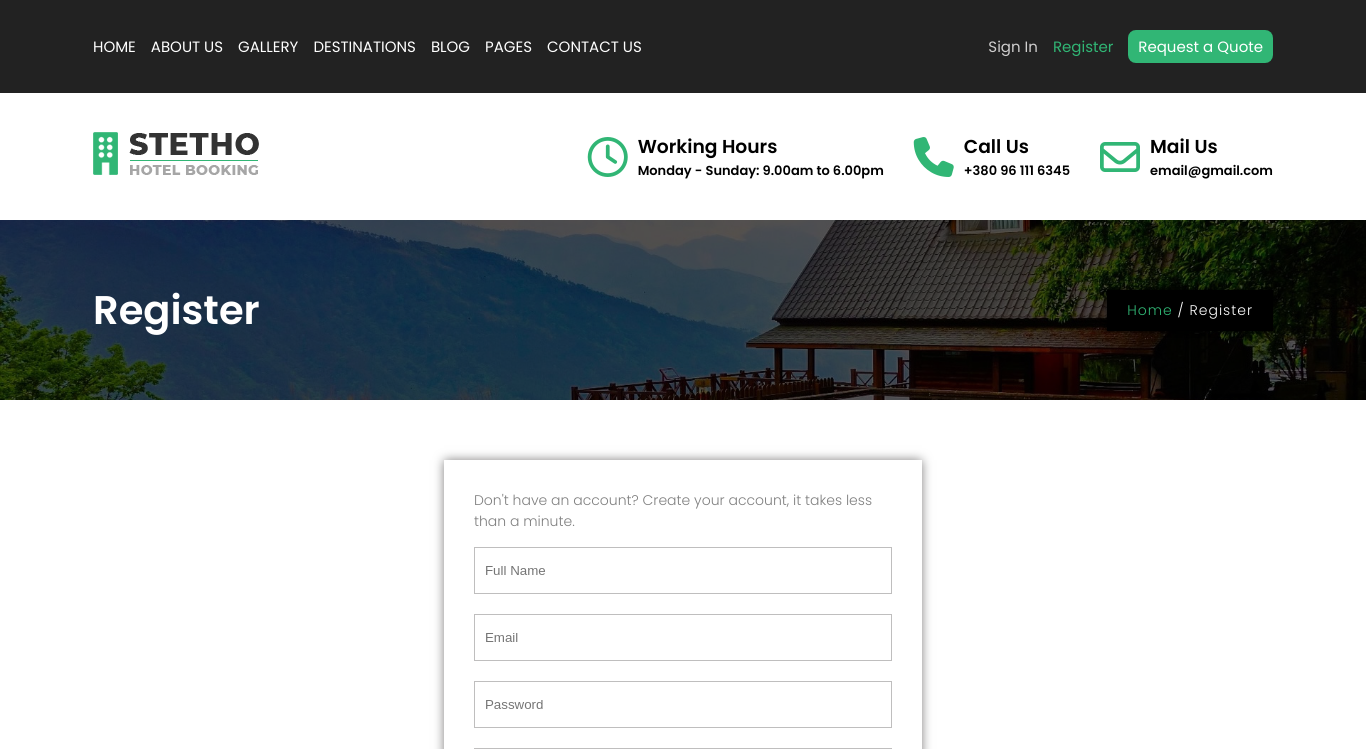
Test: Register › should input valid inputs and submit form
Type "Andrew" into the field with placeholder "Full Name" at (683, 570), box [474,547,892,594]
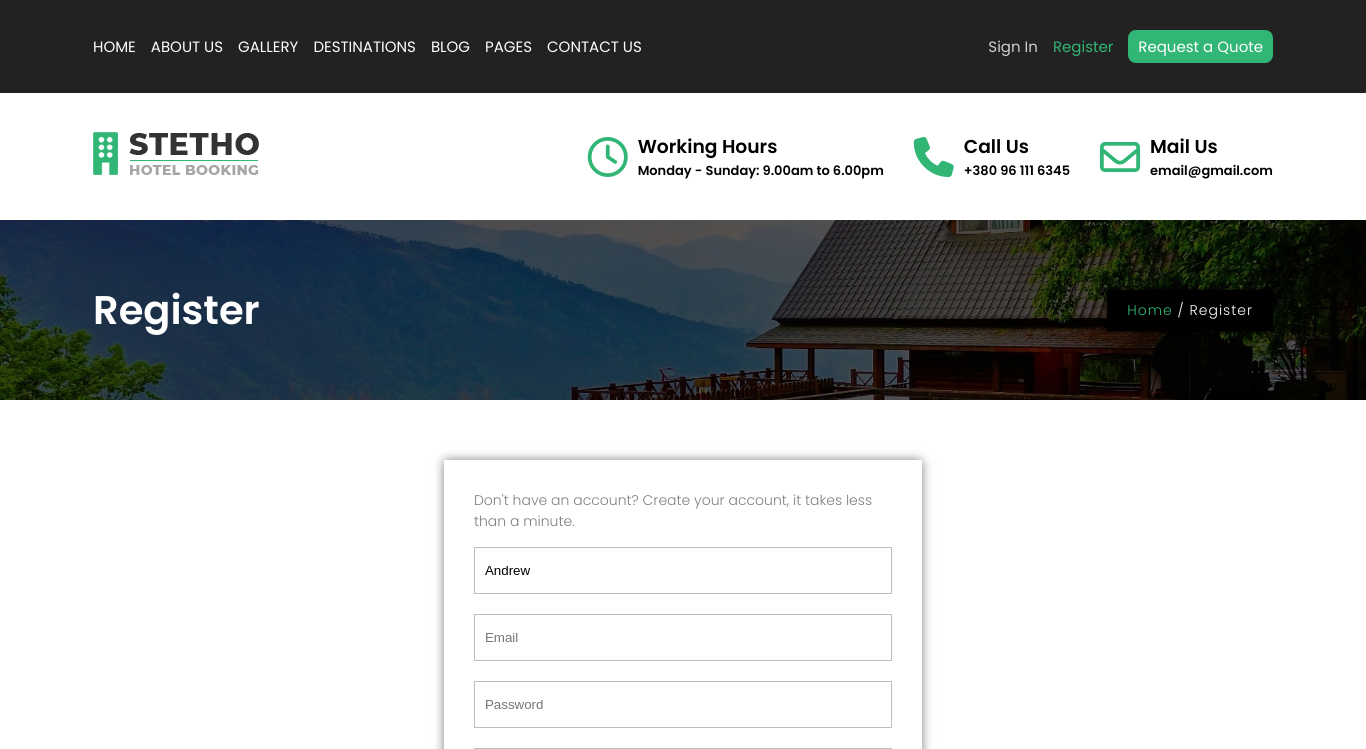
Type "andrewse@gmail.com" into the field with placeholder "Email" at (683, 638), box [474,614,892,661]
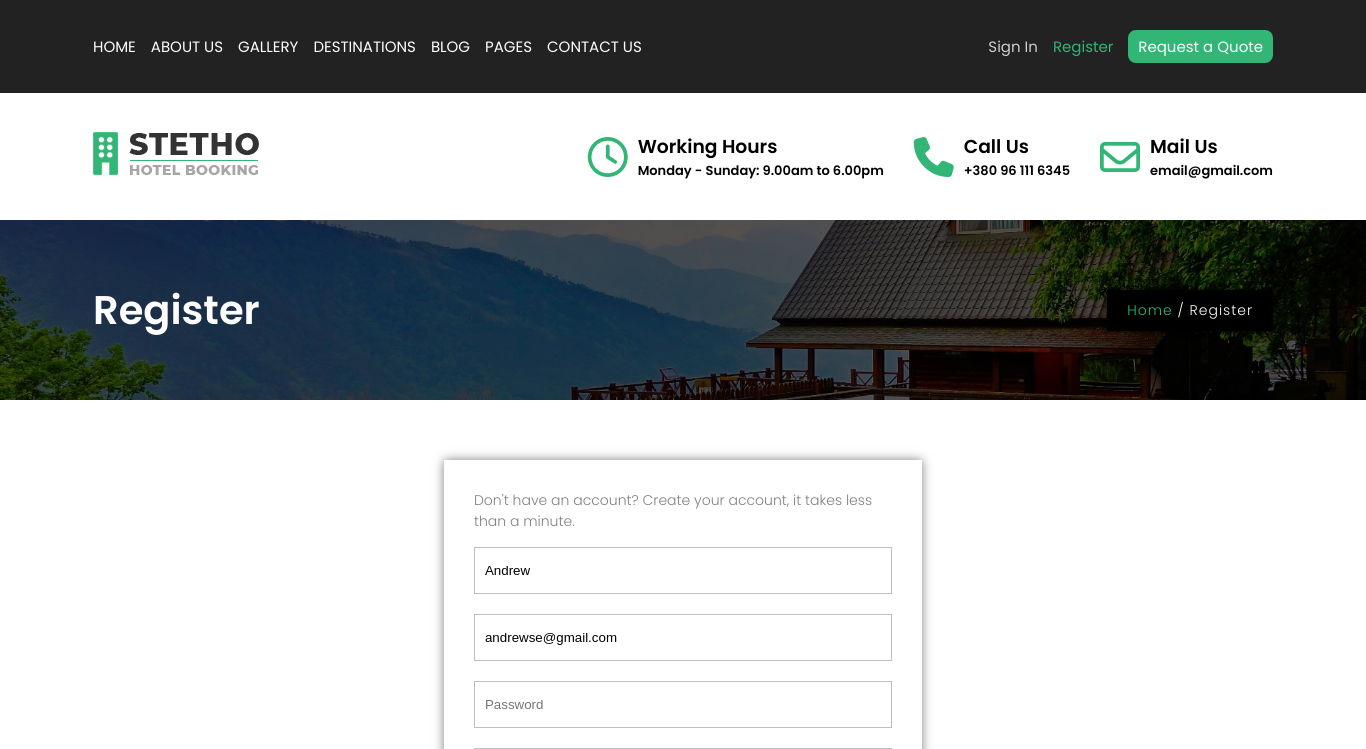
Type "bombamoscow1!" into the password field with placeholder "Password" at (683, 704), box [474,681,892,728]
(page scrolled)
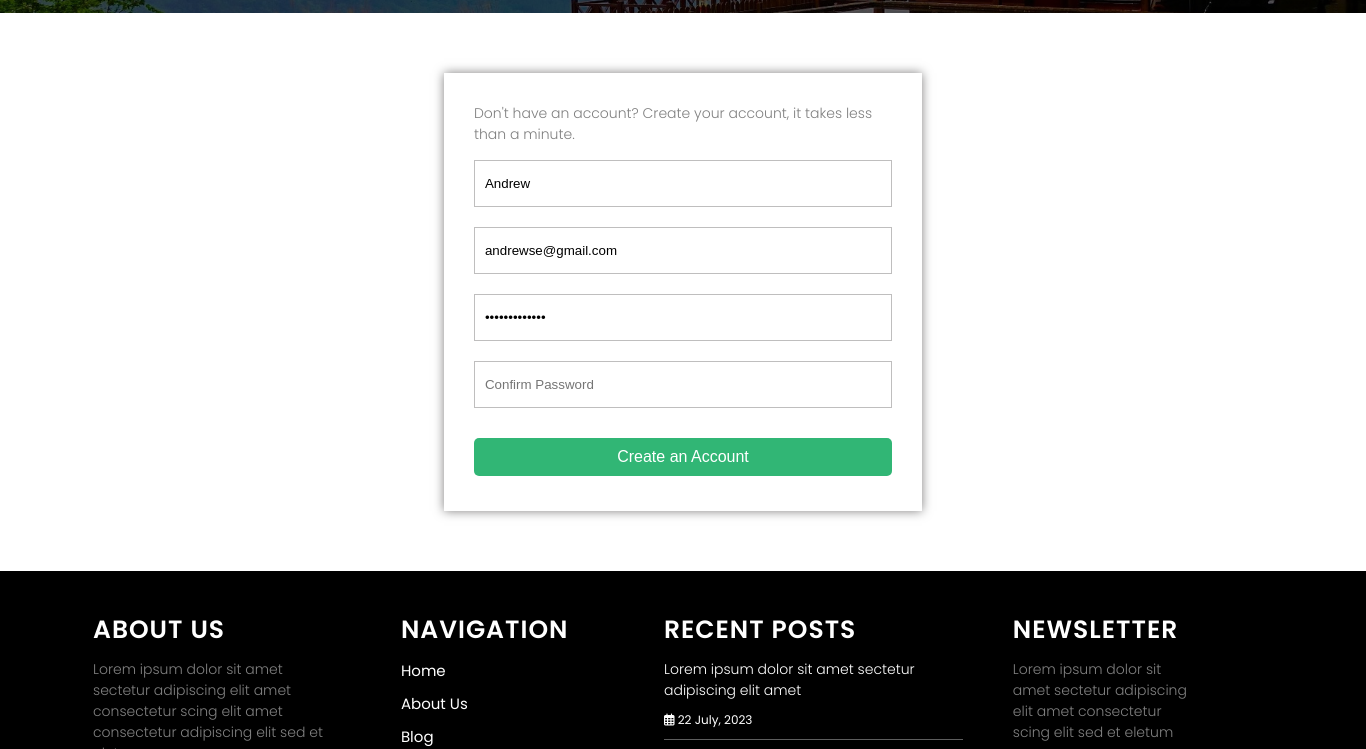
Type "bombamoscow1!" into the password field with placeholder "Confirm Password" at (683, 384), box [474,361,892,408]
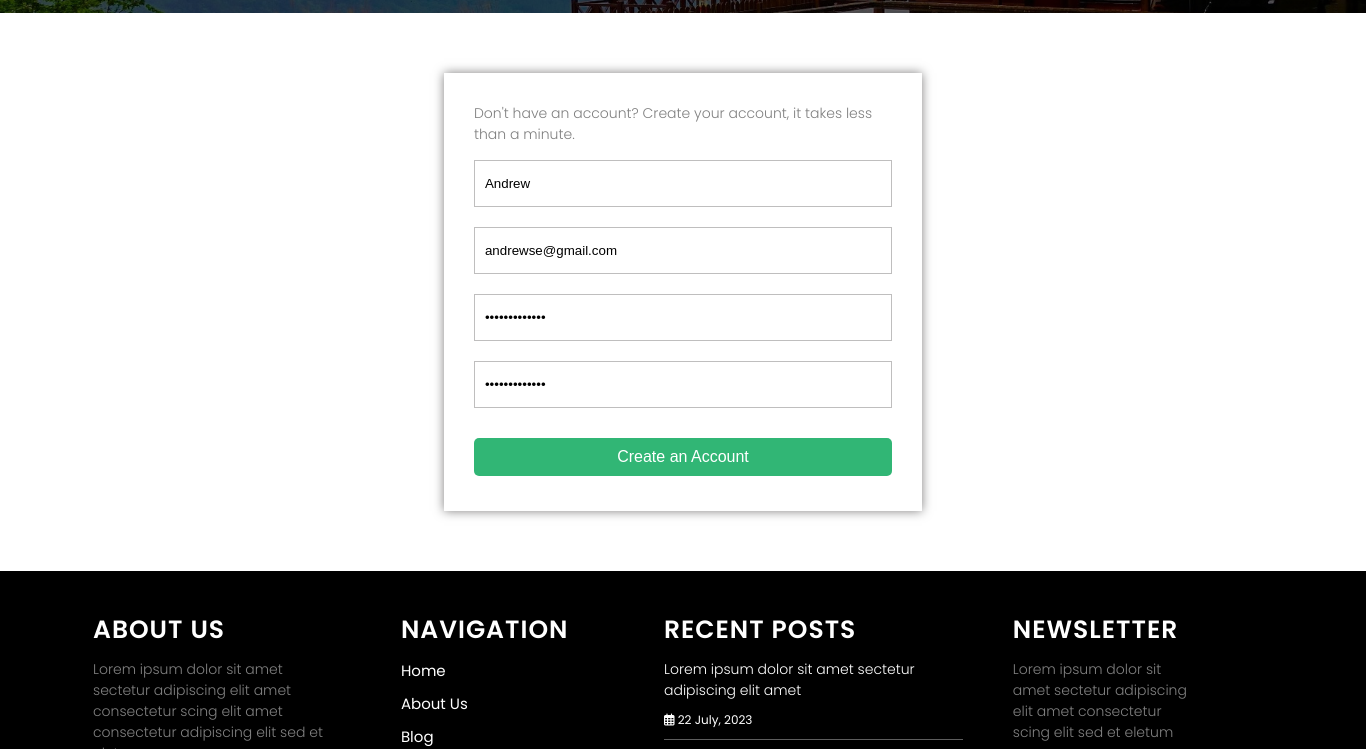
Click the button "Create an Account" at (683, 457), box [474,438,892,476]
(page scrolled)
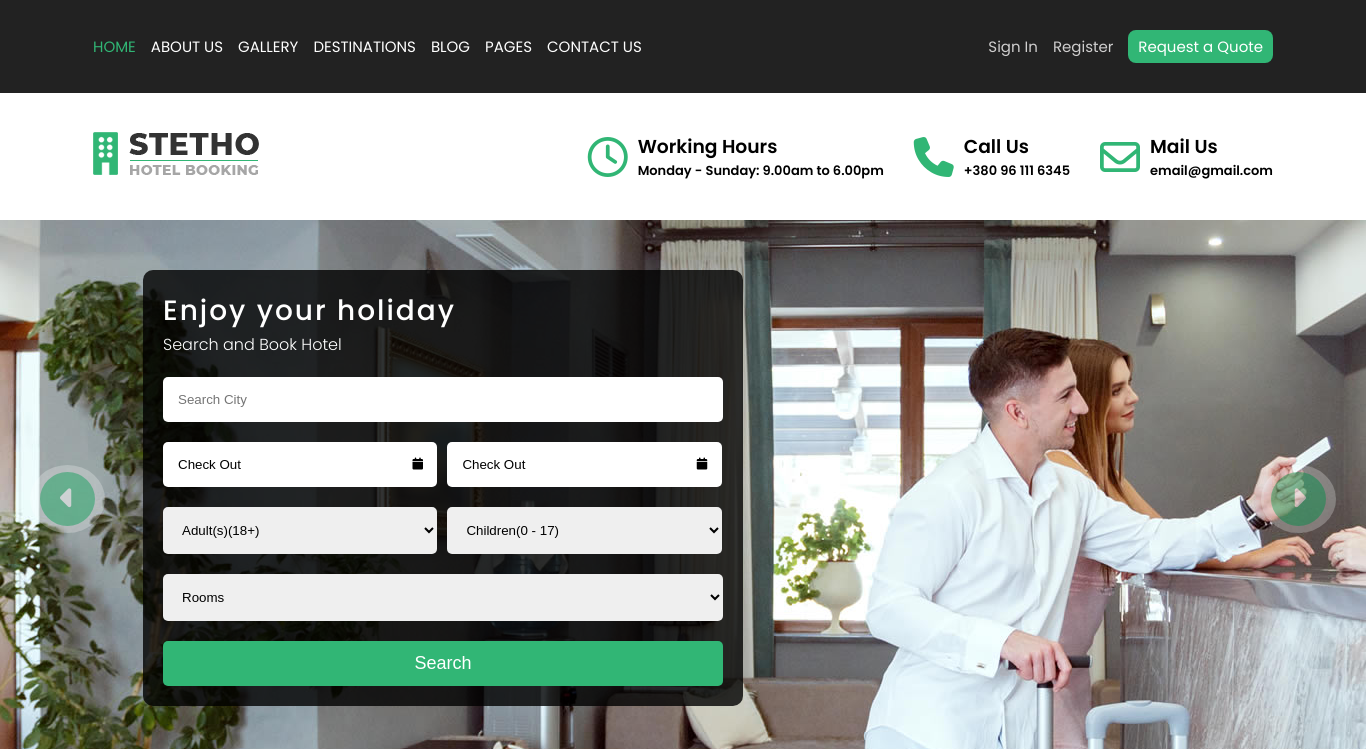
Check: the heading "Enjoy your holiday" is shown, box [163,291,456,330]
